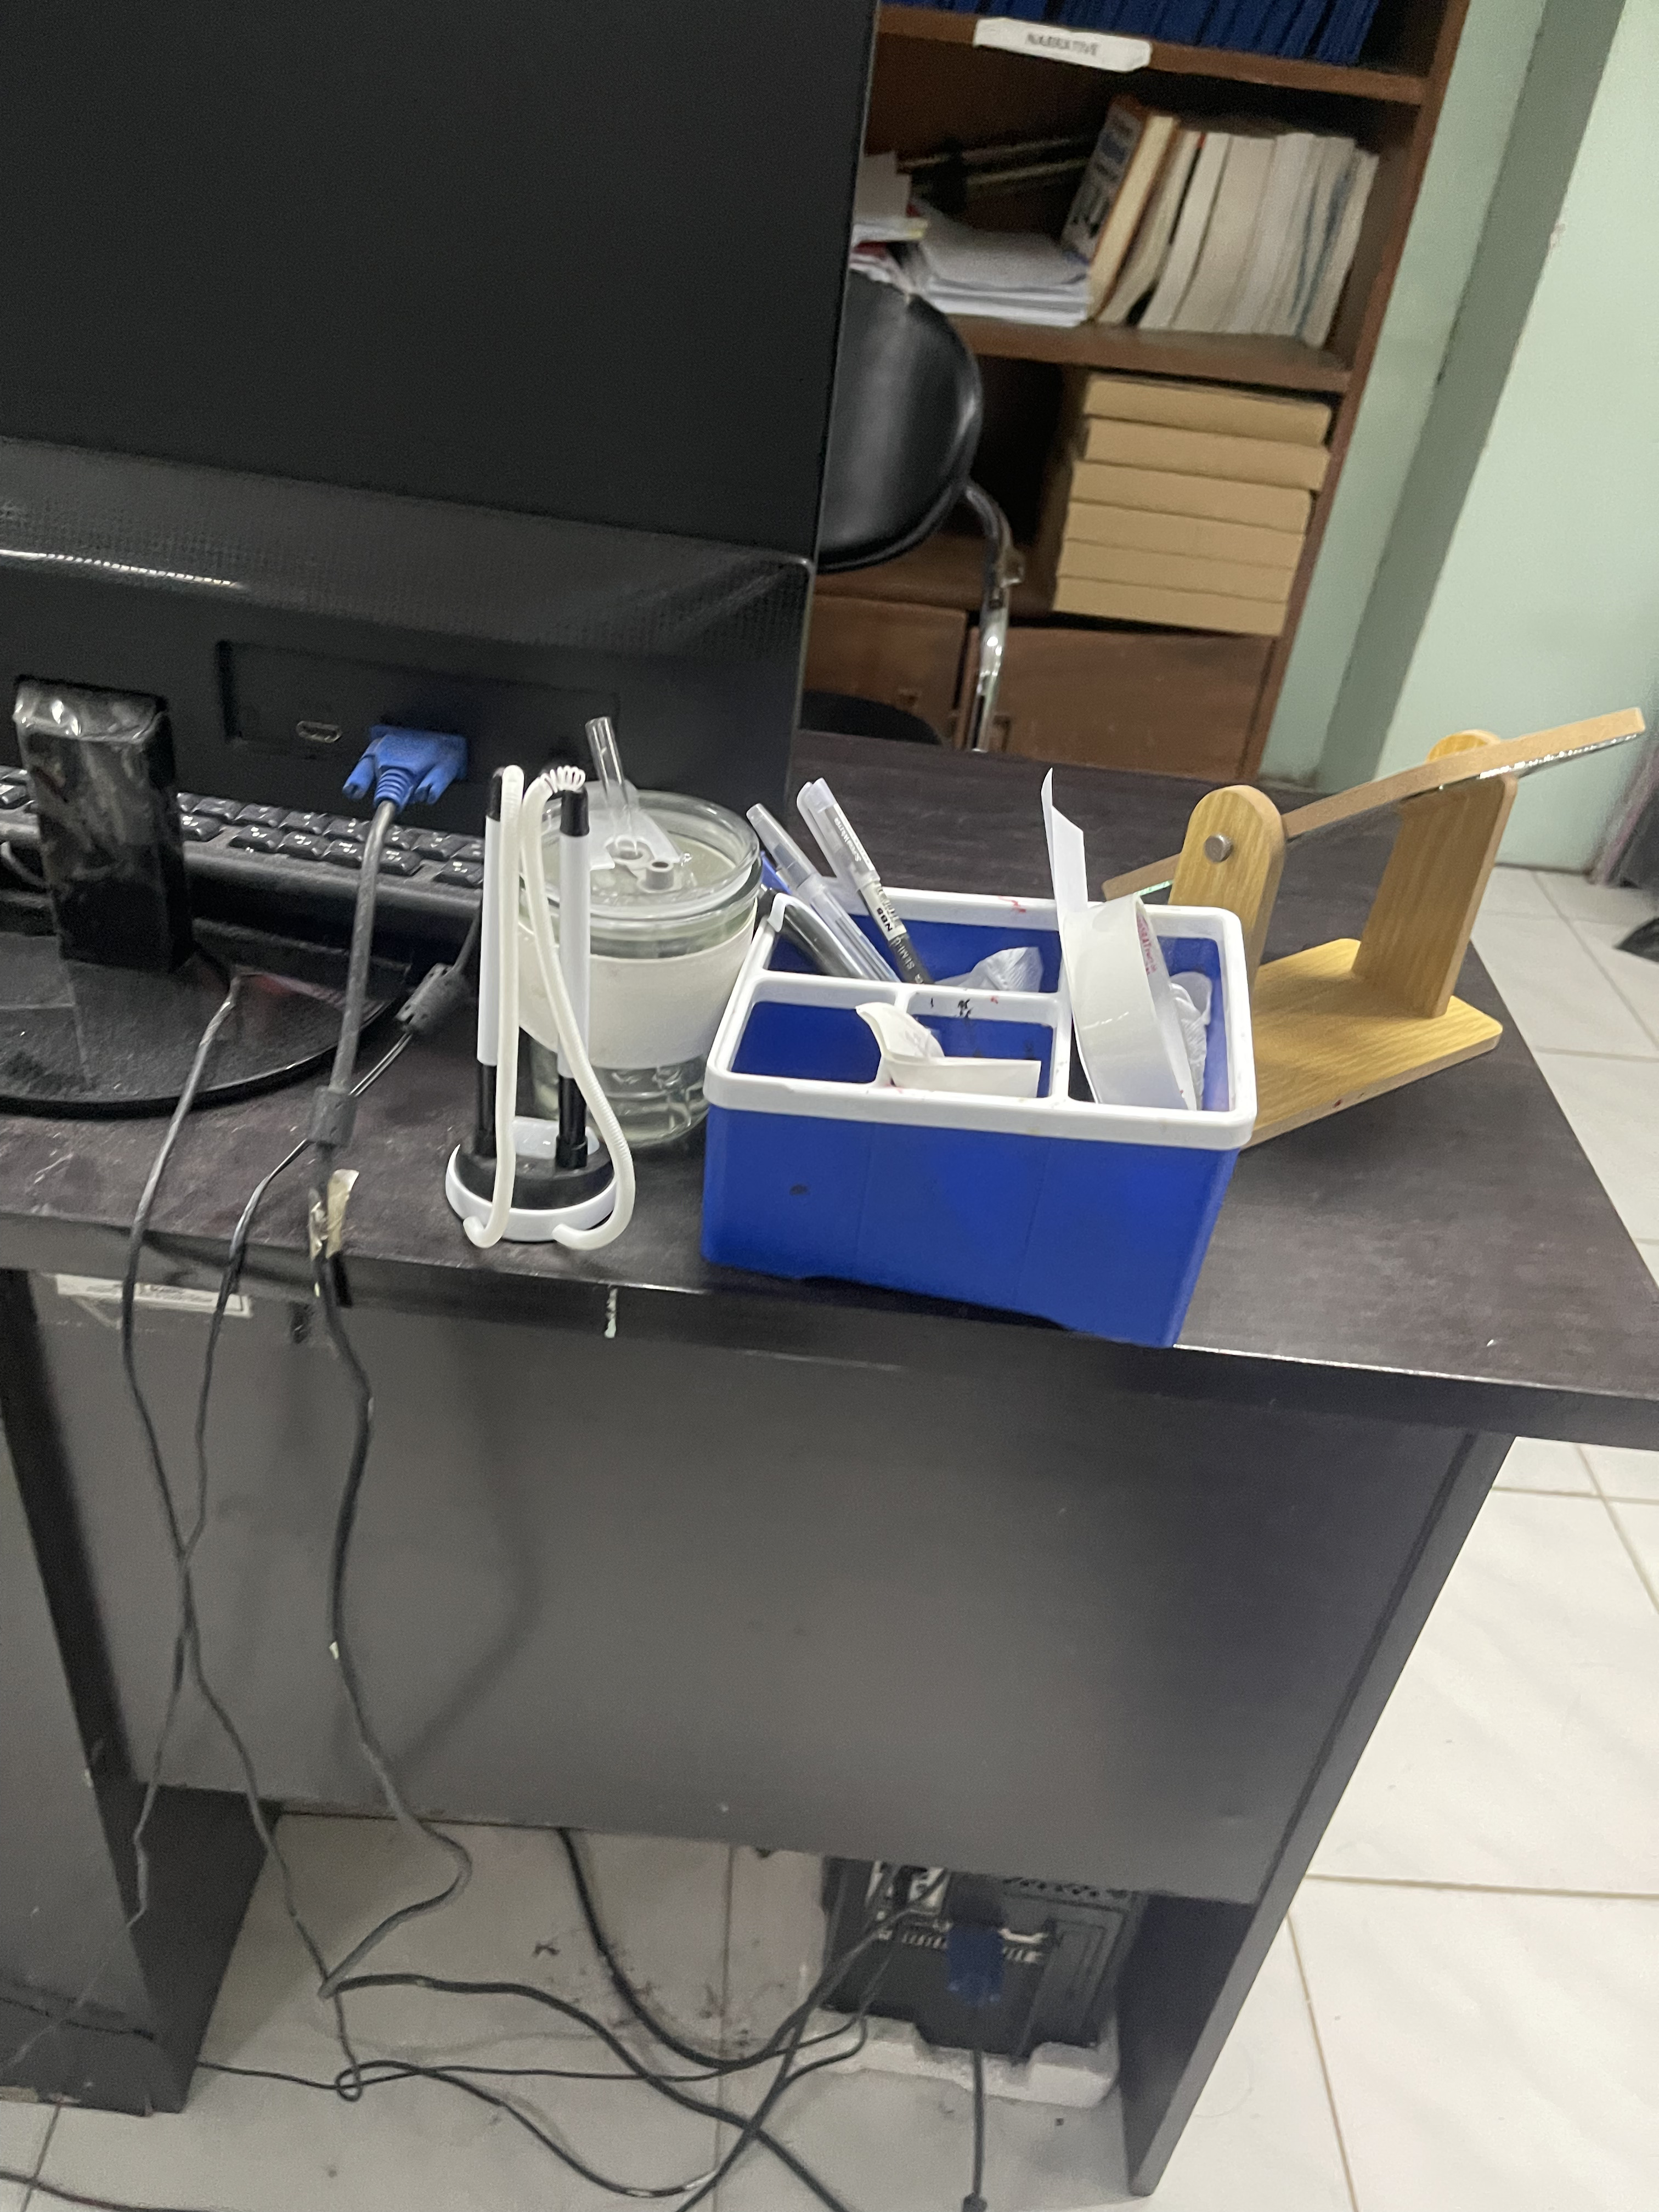table1: (5, 653, 1659, 2212)
